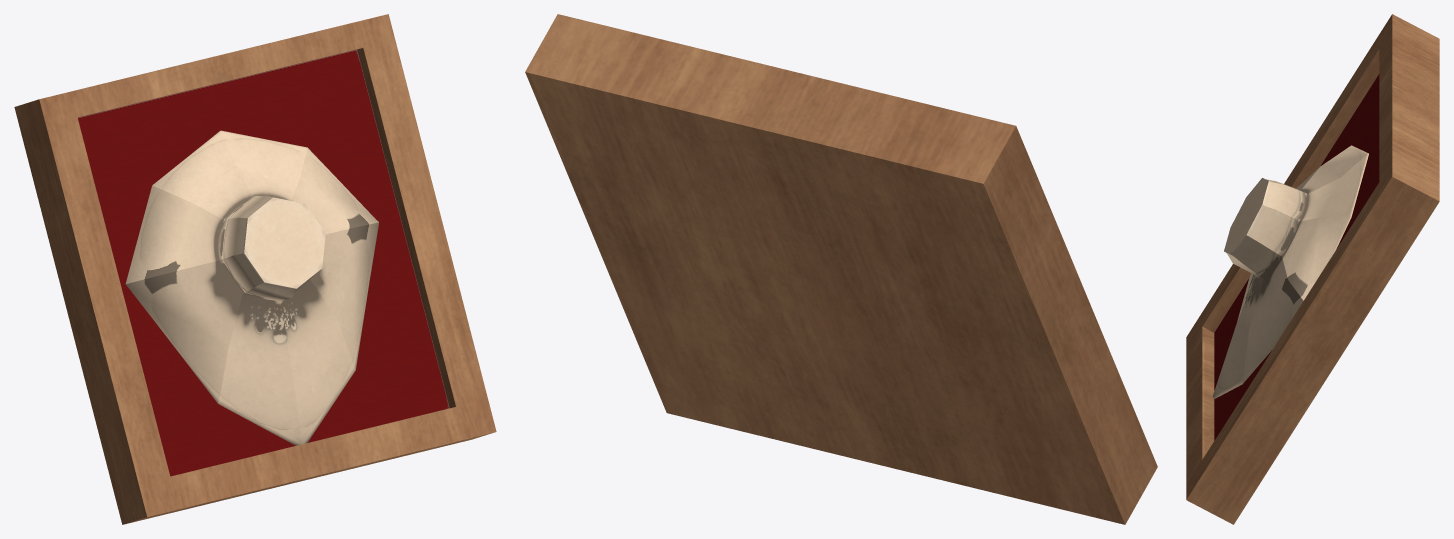
Rendered from LoseNecklace.glb.
3 renders of one model, left to right at view 1: azimuth 30°, elevation 25°; view 2: azimuth 150°, elevation 25°; view 3: azimuth 270°, elevation 25°, orthographic. The views are drawn at different scales.
Parts seen in each view (by area): view 1: Necklace_Box_Inside, Necklace_Holder; view 2: Necklace_Box_Inside; view 3: Necklace_Box_Inside, Necklace_Holder.
Part boxes in pixels (<box>): Necklace_Box_Inside: <box>14,14,496,524</box>; Necklace_Holder: <box>125,130,378,445</box>; Necklace_Box_Inside: <box>525,14,1157,524</box>; Necklace_Box_Inside: <box>1186,14,1439,524</box>; Necklace_Holder: <box>1213,145,1368,399</box>.
Bounding box in the file's own units: 1.48 × 1.48 × 0.9745.
2 materials, 2 textured.
